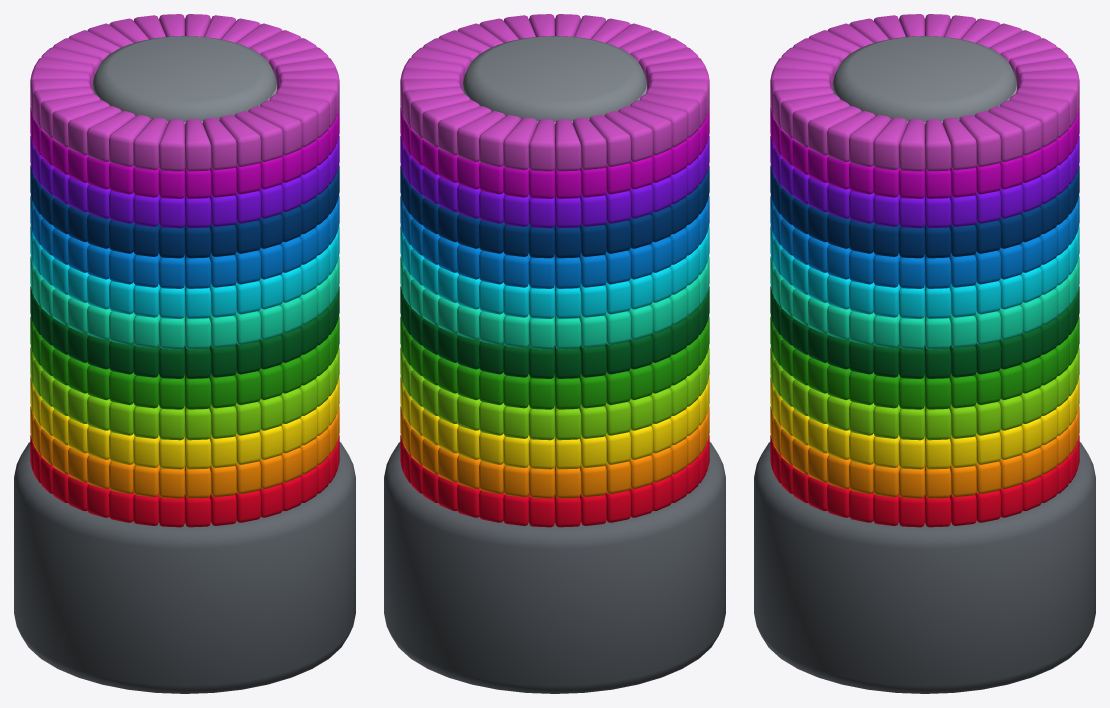
The model's file is collectible.fbx.
3 renders of one model, left to right at view 1: azimuth 30°, elevation 25°; view 2: azimuth 150°, elevation 25°; view 3: azimuth 270°, elevation 25°, orthographic.
Visible parts, largest first — view 1: Cylinder, Cylinder.445, Cylinder.448, Cylinder.446, Cylinder.447, Cylinder.444, Cylinder.449, Cylinder.443, Cylinder.450, Cylinder.442, Cylinder.451, Cylinder.441 (+141 smaller); view 2: Cylinder, Cylinder.433, Cylinder.436, Cylinder.434, Cylinder.435, Cylinder.437, Cylinder.468, Cylinder.438, Cylinder.467, Cylinder.439, Cylinder.466, Cylinder.440 (+141 smaller); view 3: Cylinder, Cylinder.457, Cylinder.460, Cylinder.458, Cylinder.459, Cylinder.456, Cylinder.461, Cylinder.455, Cylinder.462, Cylinder.454, Cylinder.463, Cylinder.453 (+141 smaller).
Boxes of the visible parts, box(x1,y1,x2,y2) form: Cylinder: box(14, 36, 355, 693); Cylinder.445: box(133, 117, 167, 170); Cylinder.448: box(202, 117, 236, 170); Cylinder.446: box(158, 119, 184, 171); Cylinder.447: box(185, 119, 211, 171); Cylinder.444: box(109, 114, 150, 166); Cylinder.449: box(219, 114, 260, 166); Cylinder.443: box(87, 111, 135, 161); Cylinder.450: box(234, 111, 282, 161); Cylinder.442: box(68, 106, 121, 155); Cylinder.451: box(248, 106, 301, 155); Cylinder.441: box(52, 100, 109, 147); Cylinder: box(384, 36, 725, 693); Cylinder.433: box(503, 117, 537, 170); Cylinder.436: box(572, 117, 606, 170); Cylinder.434: box(528, 119, 554, 171); Cylinder.435: box(555, 119, 581, 171); Cylinder.437: box(589, 114, 630, 166); Cylinder.468: box(479, 114, 520, 166); Cylinder.438: box(604, 111, 652, 161); Cylinder.467: box(457, 111, 505, 161); Cylinder.439: box(618, 106, 671, 155); Cylinder.466: box(438, 106, 491, 155); Cylinder.440: box(630, 100, 687, 147); Cylinder: box(754, 36, 1095, 693); Cylinder.457: box(873, 117, 907, 170); Cylinder.460: box(942, 117, 976, 170); Cylinder.458: box(898, 119, 924, 171); Cylinder.459: box(925, 119, 951, 171); Cylinder.456: box(849, 114, 890, 166); Cylinder.461: box(959, 114, 1000, 166); Cylinder.455: box(827, 111, 875, 161); Cylinder.462: box(974, 111, 1022, 161); Cylinder.454: box(808, 106, 861, 155); Cylinder.463: box(988, 106, 1041, 155); Cylinder.453: box(792, 100, 849, 147).
Bounding box in the file's own units: 136 × 245 × 136.
